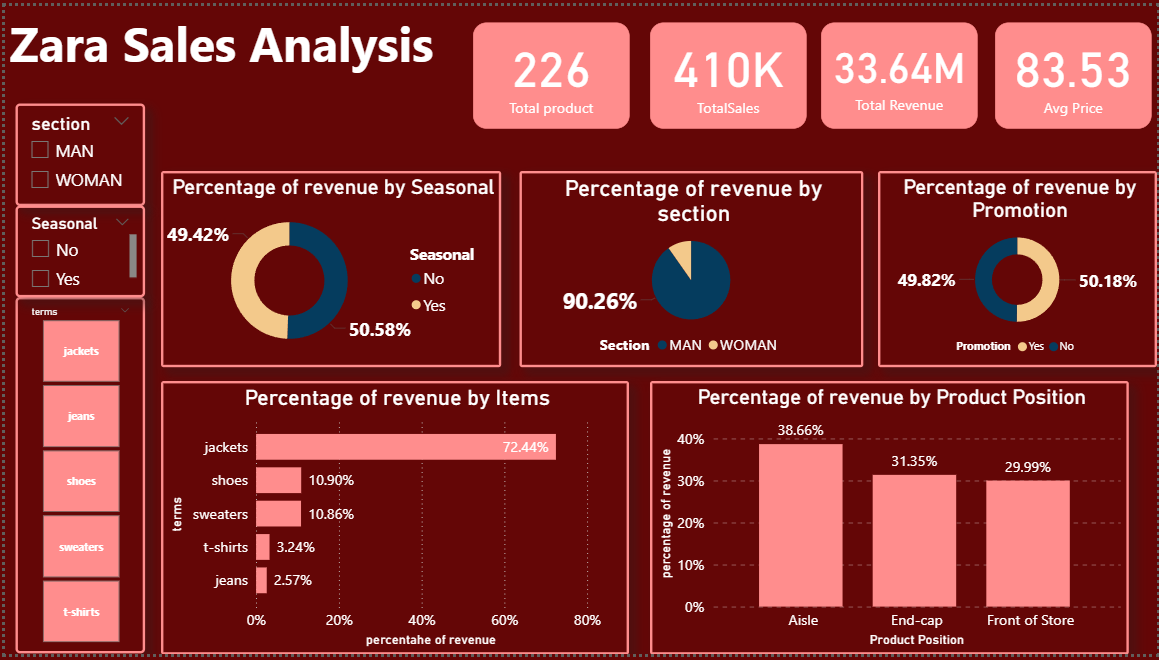

Layout of this report page (visuals, bound fields, positions):
{"tool":"powerbi","page":{"name":"Page 1","canvas":[1280,720],"ordinal":0},"visuals":[{"type":"pieChart","title":"Percentage of revenue by section","fields":{"Category":["Zara_Sales_Analysis.section"],"Y":["Zara_Sales_Analysis.percentahe of revenue"]},"box":[572,184,382,218],"z":0},{"type":"donutChart","title":"Percentage of revenue by Seasonal","fields":{"Y":["Zara_Sales_Analysis.percentahe of revenue"],"Category":["Zara_Sales_Analysis.Seasonal"]},"box":[174,184,378,218],"z":1000},{"type":"barChart","title":"Percentage of revenue by Items","fields":{"Y":["Zara_Sales_Analysis.percentahe of revenue"],"Category":["Zara_Sales_Analysis.terms"]},"box":[174,416,520,304],"z":2000},{"type":"donutChart","title":"Percentage of revenue by Promotion","fields":{"Y":["Zara_Sales_Analysis.percentahe of revenue"],"Category":["Zara_Sales_Analysis.Promotion"]},"box":[970,184,310,218],"z":3000},{"type":"columnChart","title":"Percentage of revenue by Product Position","fields":{"Category":["Zara_Sales_Analysis.Product Position"],"Y":["Zara_Sales_Analysis.percentahe of revenue"]},"box":[716,416,532,304],"z":4000},{"type":"slicer","fields":{"Values":["Zara_Sales_Analysis.section"]},"box":[12,108,144,114],"z":5000},{"type":"card","fields":{"Values":["Zara_Sales_Analysis.TotalSales"]},"box":[716,18,174,118],"z":6000},{"type":"card","fields":{"Values":["Zara_Sales_Analysis.Total Revenue"]},"box":[906,18,174,118],"z":7000},{"type":"slicer","fields":{"Values":["Zara_Sales_Analysis.terms"]},"box":[12,324,144,396],"z":8000},{"type":"card","fields":{"Values":["Zara_Sales_Analysis.Avg Price"]},"box":[1100,18,174,118],"z":9000},{"type":"slicer","fields":{"Values":["Zara_Sales_Analysis.Seasonal"]},"box":[12,222,144,102],"z":10000},{"type":"card","fields":{"Values":["Zara_Sales_Analysis.Total product"]},"box":[520,18,174,118],"z":11000},{"type":"textbox","box":[0,0,505,90],"z":12000}]}

Visuals, with their boxes in screenshot pixels (x1, y1, x2, y2), scaled from the page's 1280x720 canvas onto the 1159x660 screenshot:
"Percentage of revenue by section" pieChart: region(518, 169, 864, 368)
"Percentage of revenue by Seasonal" donutChart: region(158, 169, 500, 368)
"Percentage of revenue by Items" barChart: region(158, 381, 628, 659)
"Percentage of revenue by Promotion" donutChart: region(878, 169, 1158, 368)
"Percentage of revenue by Product Position" columnChart: region(648, 381, 1130, 659)
slicer - Zara_Sales_Analysis.section: region(11, 99, 141, 204)
card - Zara_Sales_Analysis.TotalSales: region(648, 16, 806, 125)
card - Zara_Sales_Analysis.Total Revenue: region(820, 16, 978, 125)
slicer - Zara_Sales_Analysis.terms: region(11, 297, 141, 659)
card - Zara_Sales_Analysis.Avg Price: region(996, 16, 1154, 125)
slicer - Zara_Sales_Analysis.Seasonal: region(11, 204, 141, 297)
card - Zara_Sales_Analysis.Total product: region(471, 16, 628, 125)
textbox: region(0, 0, 457, 82)
